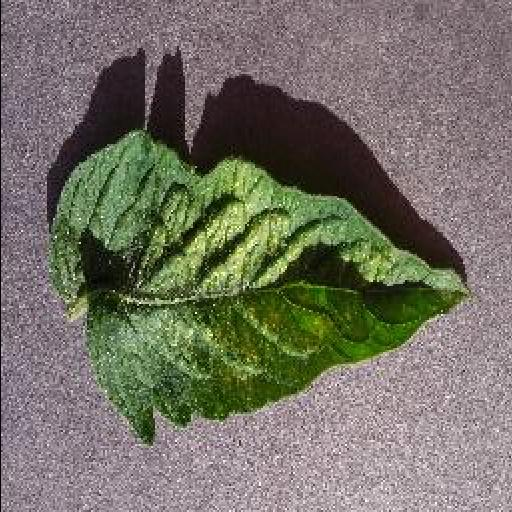disease_tomato: (46, 129, 468, 443)
